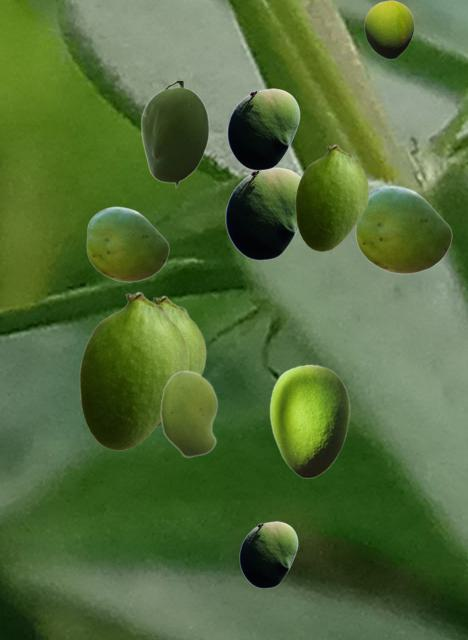green_mango: (79, 291, 188, 449), (269, 364, 349, 477), (355, 185, 451, 273), (295, 144, 368, 250), (140, 81, 208, 187), (152, 295, 205, 427), (225, 167, 300, 259), (86, 206, 168, 281), (227, 88, 299, 169), (160, 370, 217, 457), (239, 521, 297, 587), (364, 0, 413, 58)
